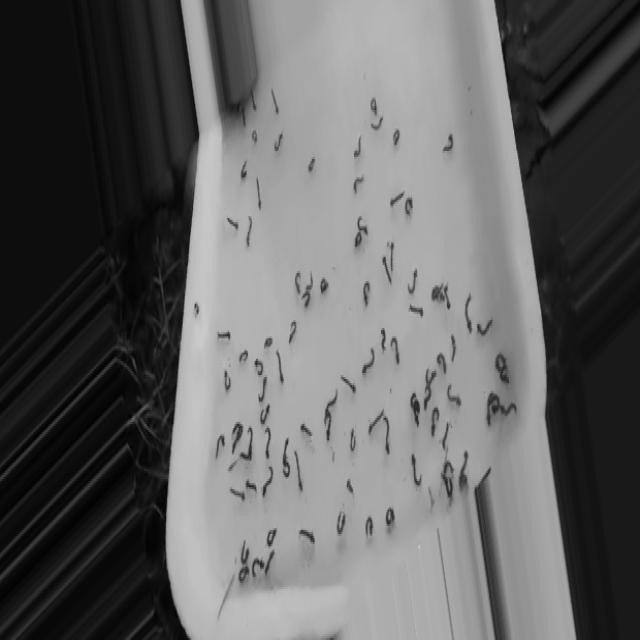larvas: (323, 394, 338, 417), (232, 422, 243, 452), (410, 394, 420, 426), (363, 348, 375, 374), (263, 465, 273, 496), (300, 526, 316, 545), (410, 454, 420, 484), (440, 474, 452, 499), (370, 410, 384, 431), (276, 350, 284, 384), (383, 416, 390, 454), (448, 384, 460, 406), (408, 269, 418, 295), (295, 451, 302, 488), (466, 294, 472, 334), (477, 319, 492, 335), (391, 190, 404, 208), (216, 434, 226, 457), (382, 258, 392, 280), (437, 351, 447, 373), (264, 552, 274, 574), (423, 386, 432, 410), (391, 336, 399, 362), (486, 391, 492, 425), (271, 90, 279, 115), (273, 132, 283, 152), (336, 512, 346, 532), (256, 177, 262, 210), (259, 378, 267, 402), (341, 378, 357, 390), (238, 566, 250, 582), (354, 173, 364, 192), (288, 321, 297, 342), (459, 452, 467, 475), (410, 304, 423, 318), (424, 369, 436, 384), (496, 352, 506, 370), (253, 558, 263, 576), (446, 132, 454, 154), (363, 283, 371, 305), (432, 284, 443, 300), (432, 408, 439, 433), (390, 241, 396, 270), (268, 527, 278, 544), (500, 406, 517, 416), (442, 422, 448, 450), (230, 487, 244, 499), (500, 366, 509, 384), (260, 407, 270, 423), (241, 542, 249, 562), (444, 283, 450, 309), (406, 195, 413, 217), (227, 216, 238, 230), (282, 459, 290, 478), (326, 412, 331, 442), (265, 426, 270, 456), (458, 476, 468, 491), (247, 216, 252, 245), (358, 220, 367, 236), (302, 290, 310, 308), (366, 518, 373, 538), (490, 398, 500, 412), (305, 273, 313, 290), (255, 358, 263, 375), (386, 509, 394, 526), (452, 336, 457, 363), (354, 136, 360, 158), (380, 328, 386, 350), (301, 424, 312, 436), (355, 230, 363, 246), (241, 163, 249, 179), (248, 426, 252, 458), (240, 106, 247, 124), (224, 371, 231, 389), (372, 118, 382, 130), (350, 430, 356, 450), (295, 271, 301, 290), (252, 94, 258, 112), (284, 435, 288, 462), (240, 350, 248, 363), (370, 97, 377, 110), (309, 158, 315, 173), (444, 461, 452, 472), (393, 130, 399, 144), (264, 337, 273, 346), (253, 132, 258, 148), (347, 480, 353, 493), (321, 280, 327, 292), (240, 452, 249, 460), (246, 482, 256, 489), (218, 333, 231, 338)
